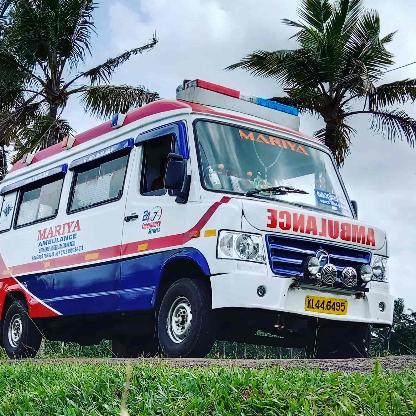priority: (0, 76, 393, 354)
